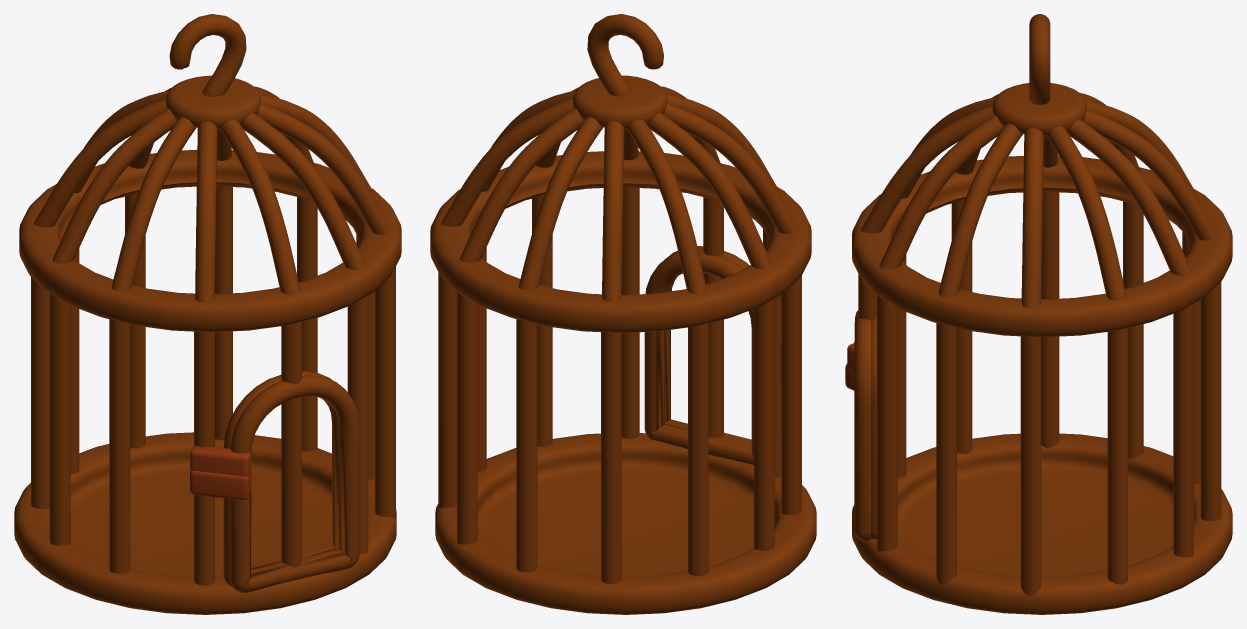
The model's file is longzi.fbx.
3 renders of one model, left to right at view 1: azimuth 30°, elevation 25°; view 2: azimuth 150°, elevation 25°; view 3: azimuth 270°, elevation 25°, orthographic.
Visible parts, largest first — view 1: Cylinder002; view 2: Cylinder002; view 3: Cylinder002.
Boxes of the visible parts, x1=… form: Cylinder002: x1=14, y1=14, x2=401, y2=614; Cylinder002: x1=430, y1=14, x2=816, y2=614; Cylinder002: x1=845, y1=14, x2=1232, y2=614.
Bounding box in the file's own units: 53.35 × 78.75 × 53.14.
